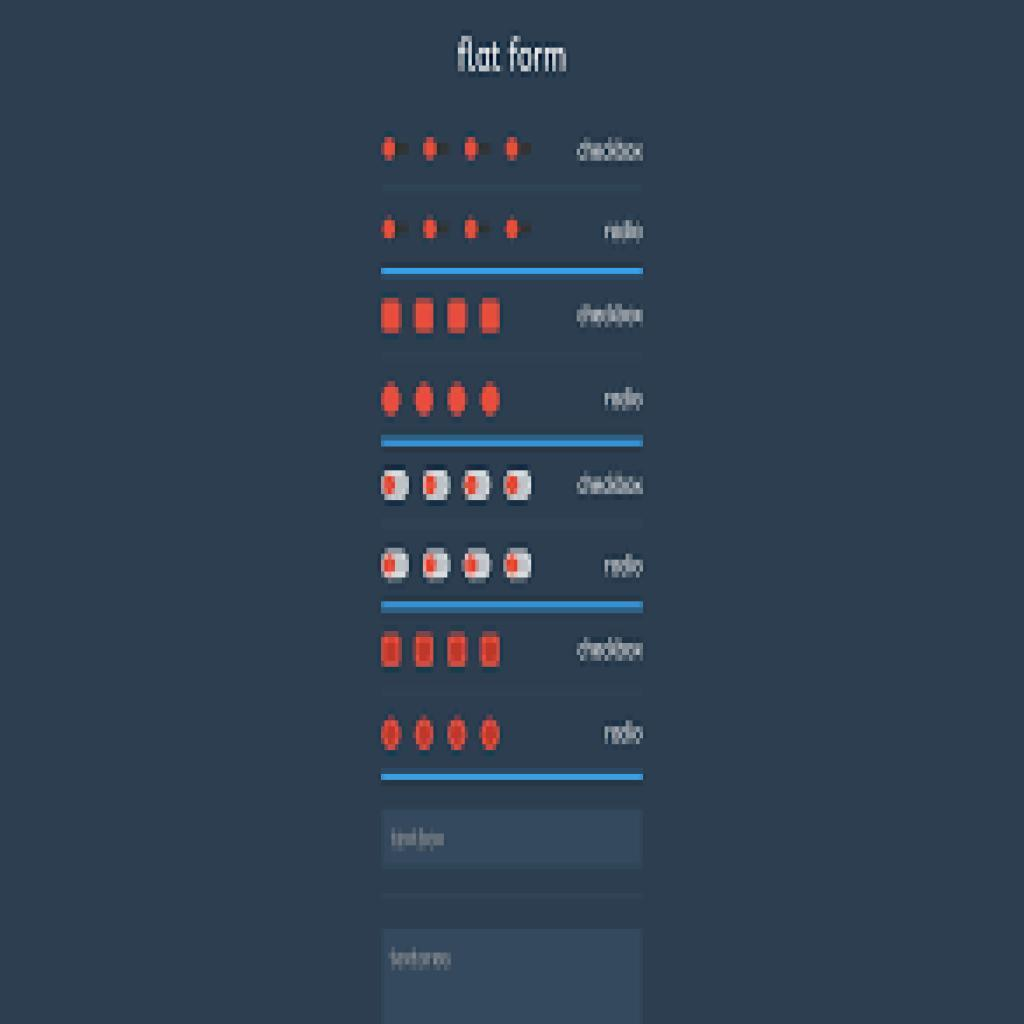checkbox: (413, 631, 441, 671), (446, 631, 471, 672), (479, 631, 505, 670), (445, 297, 471, 336), (379, 632, 405, 670), (480, 297, 503, 337), (380, 298, 404, 336), (414, 297, 436, 336)
radio: (378, 714, 405, 754), (479, 379, 504, 420), (447, 378, 471, 420), (412, 381, 436, 421), (446, 714, 469, 754), (413, 717, 438, 753), (381, 381, 404, 419), (479, 715, 501, 753)
switch: (502, 547, 537, 586), (500, 212, 536, 249), (459, 212, 494, 249), (378, 135, 416, 169), (462, 547, 495, 585), (381, 547, 412, 587), (502, 134, 537, 169), (461, 469, 495, 505), (503, 468, 536, 505), (421, 548, 454, 585), (463, 133, 497, 168), (421, 471, 457, 504), (421, 133, 454, 167), (422, 213, 455, 247), (379, 212, 414, 244), (382, 470, 412, 503)
